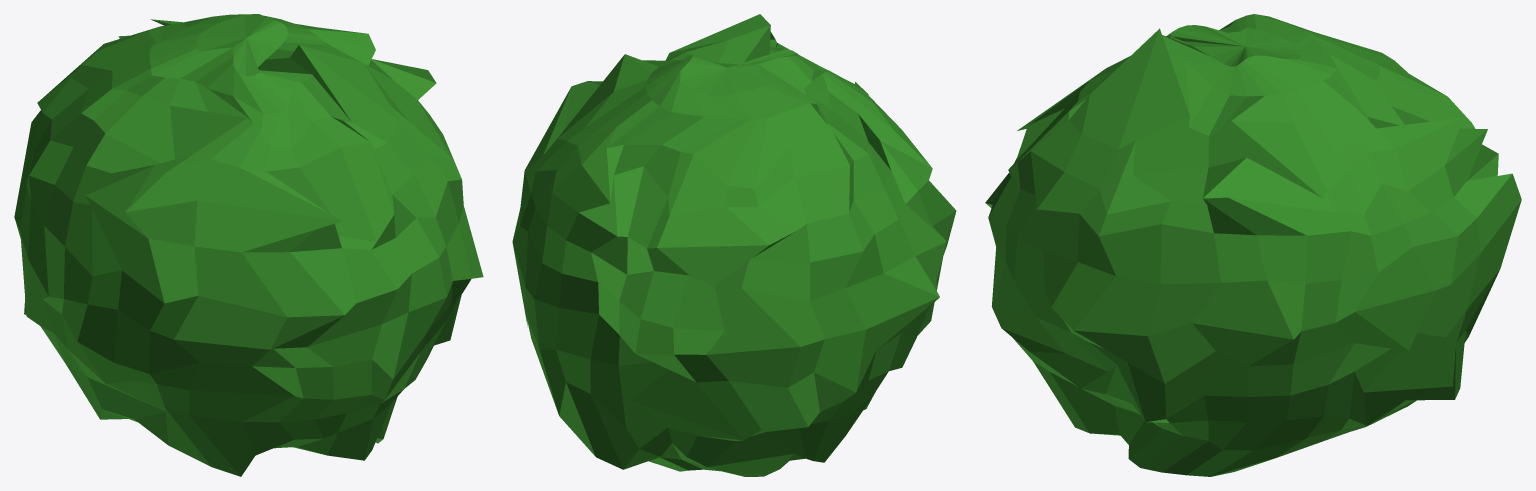
Rendered from Bush2.fbx.
The picture shows the model from 3 angles, left to right: view 1: azimuth 30°, elevation 25°; view 2: azimuth 150°, elevation 25°; view 3: azimuth 270°, elevation 25°; orthographic projection. The views are drawn at different scales.
Parts seen in each view (by area): view 1: Sphere; view 2: Sphere; view 3: Sphere.
Part boxes in pixels (x1=…): Sphere: x1=14, y1=14, x2=483, y2=476; Sphere: x1=512, y1=14, x2=956, y2=476; Sphere: x1=985, y1=14, x2=1521, y2=476.
Bounding box in the file's own units: 320 × 306 × 366.
